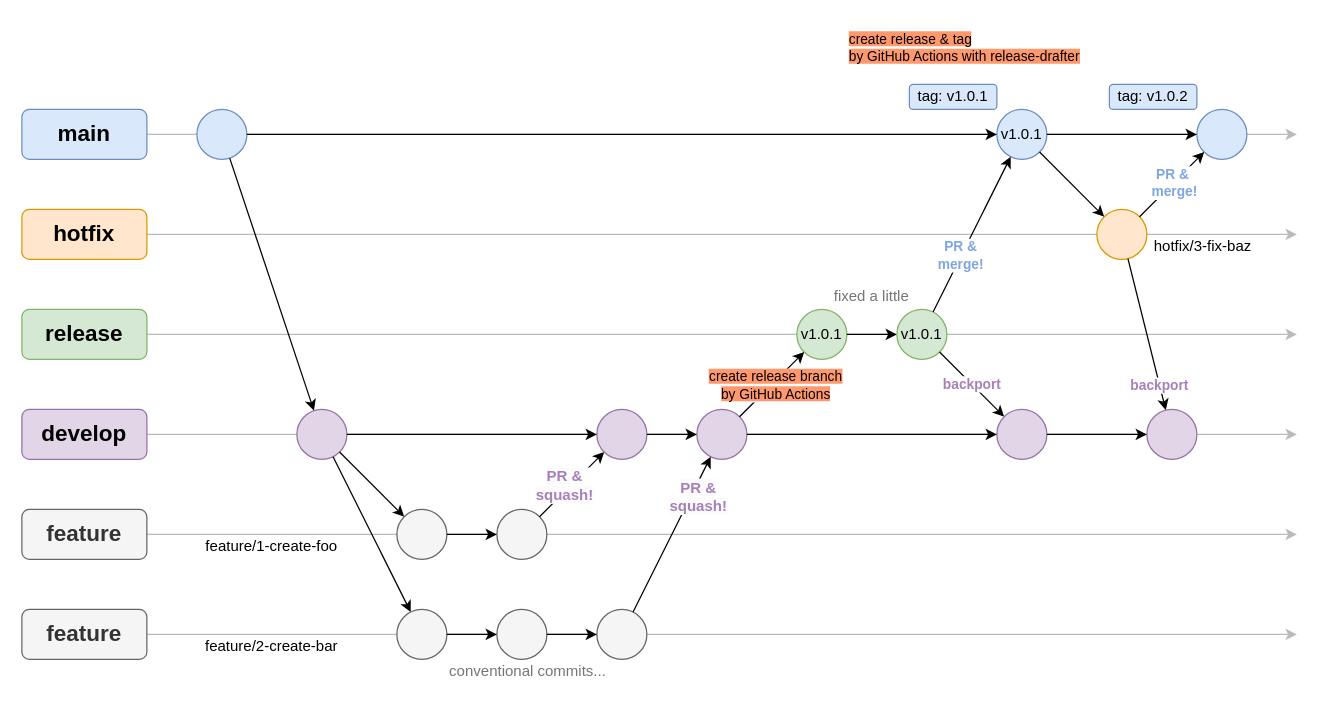
Some shapes in this 1329 by 705 pixel diagram are drawn without their labels. Each missing label, with the box of its shape:
v1.0.0: (196, 108, 247, 159)
v1.0.2: (1196, 108, 1247, 159)
